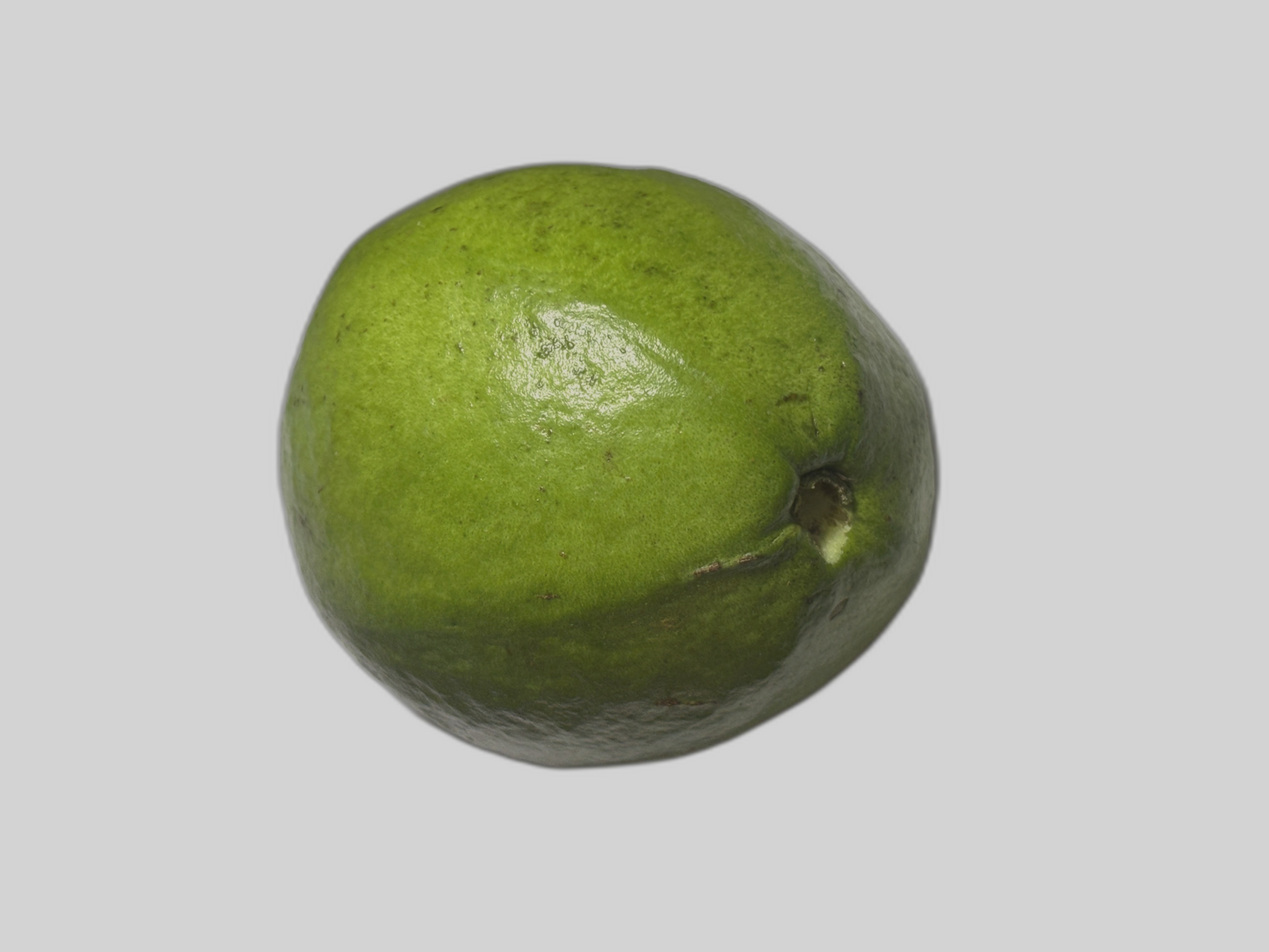guava: (207, 149, 1011, 760)
